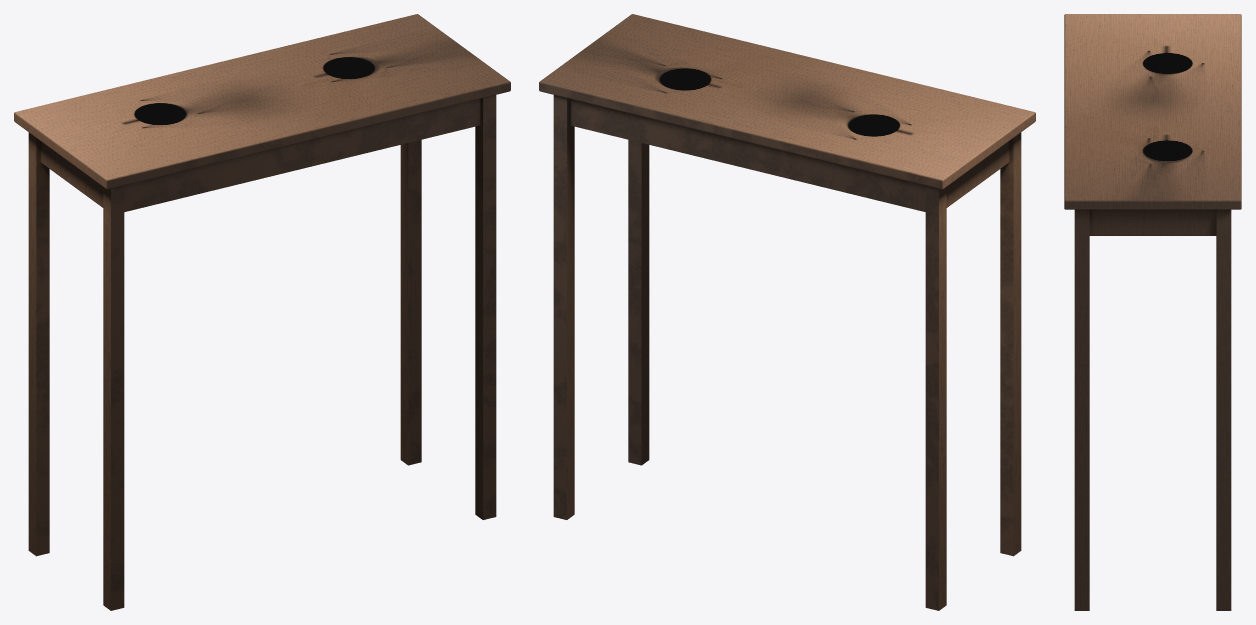
The model's file is 808_red.glb.
3 renders of one model, left to right at view 1: azimuth 30°, elevation 25°; view 2: azimuth 150°, elevation 25°; view 3: azimuth 270°, elevation 25°, orthographic. The views are drawn at different scales.
Parts seen in each view (by area): view 1: Table; view 2: Table; view 3: Table.
Part boxes in pixels (x1,y1,x2,y2): Table: (14,14,510,610); Table: (539,14,1035,610); Table: (1064,14,1241,610).
Size of what is drawn, in the model's own units: 3 by 3.1 by 1.2.
Materials: 1 (1 with a texture image).
